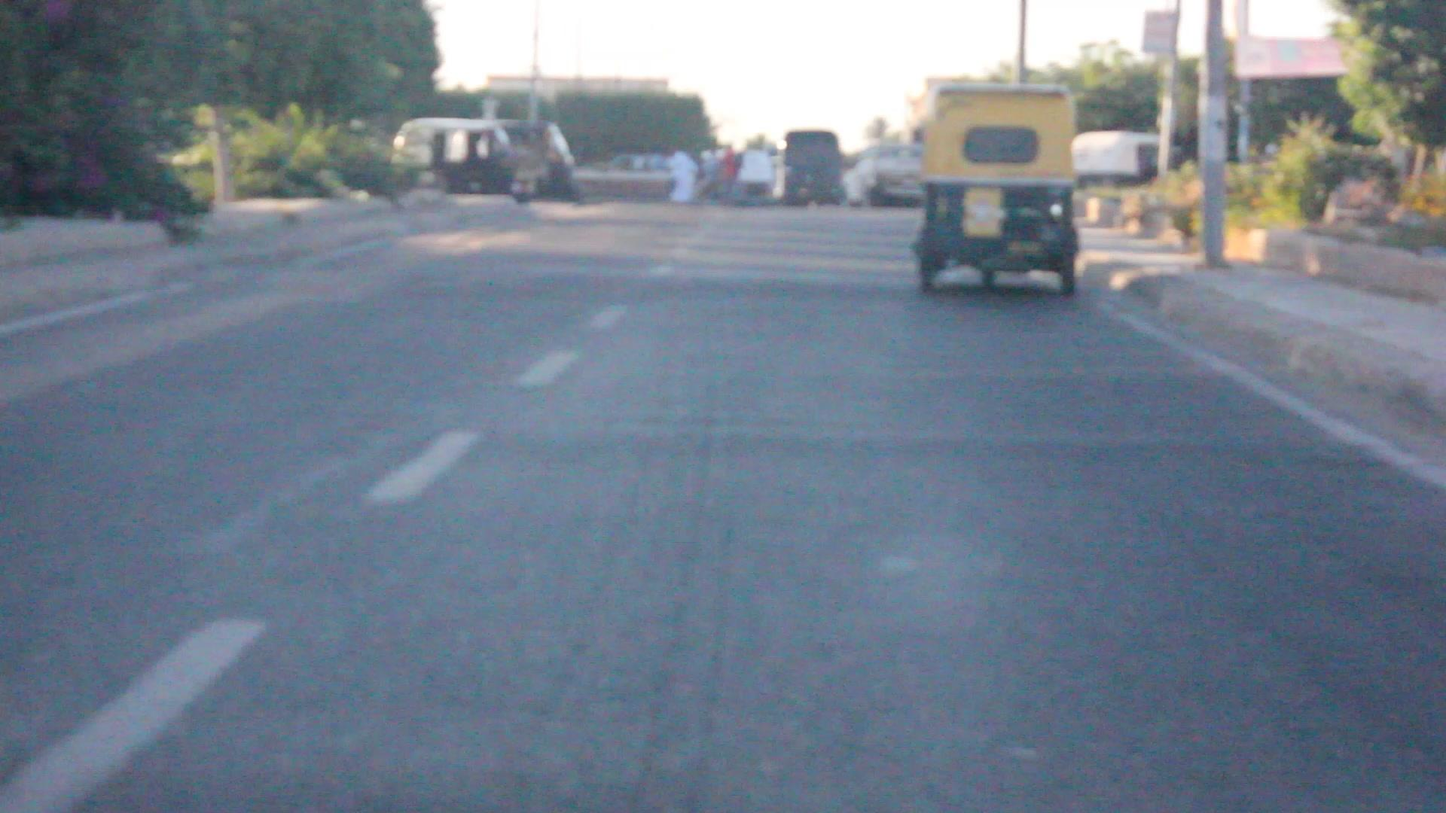Bump: (173, 265, 923, 300)
